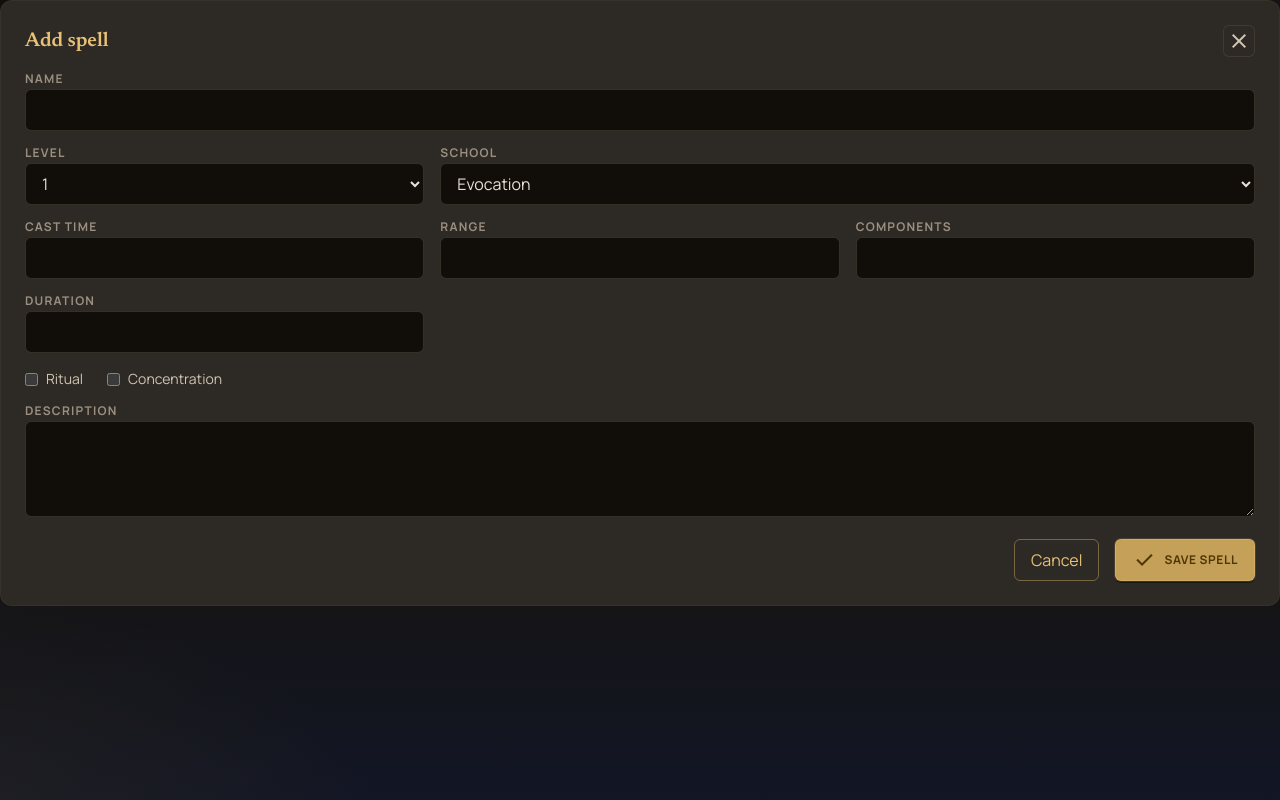
SpellForm › hides ritual and concentration for a cantrip
Expected: the checkbox labelled "Ritual" is shown, [25,372,38,386]
Select "Cantrip" in the dropdown labelled "Level" at [225, 184], box [25,163,424,205]
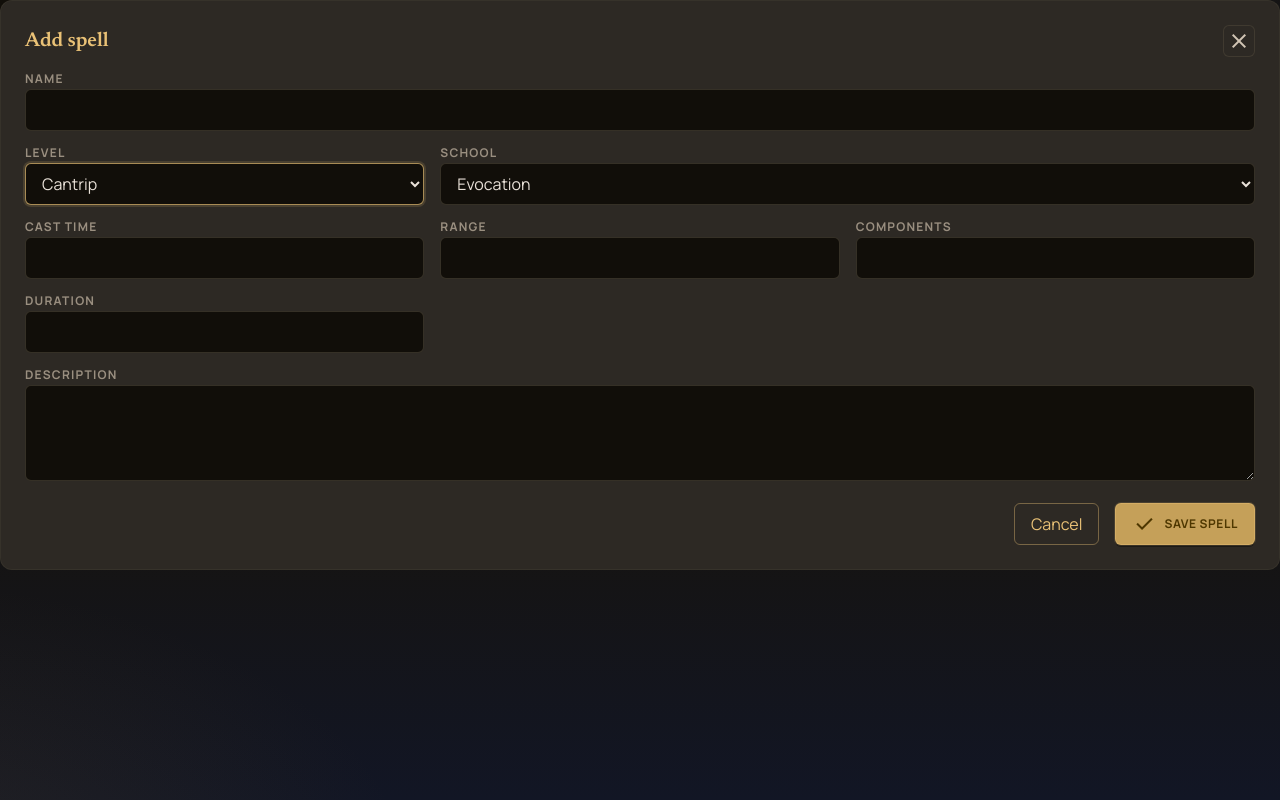
Now the label labelled "Ritual" is gone
Now the label labelled "Concentration" is gone
